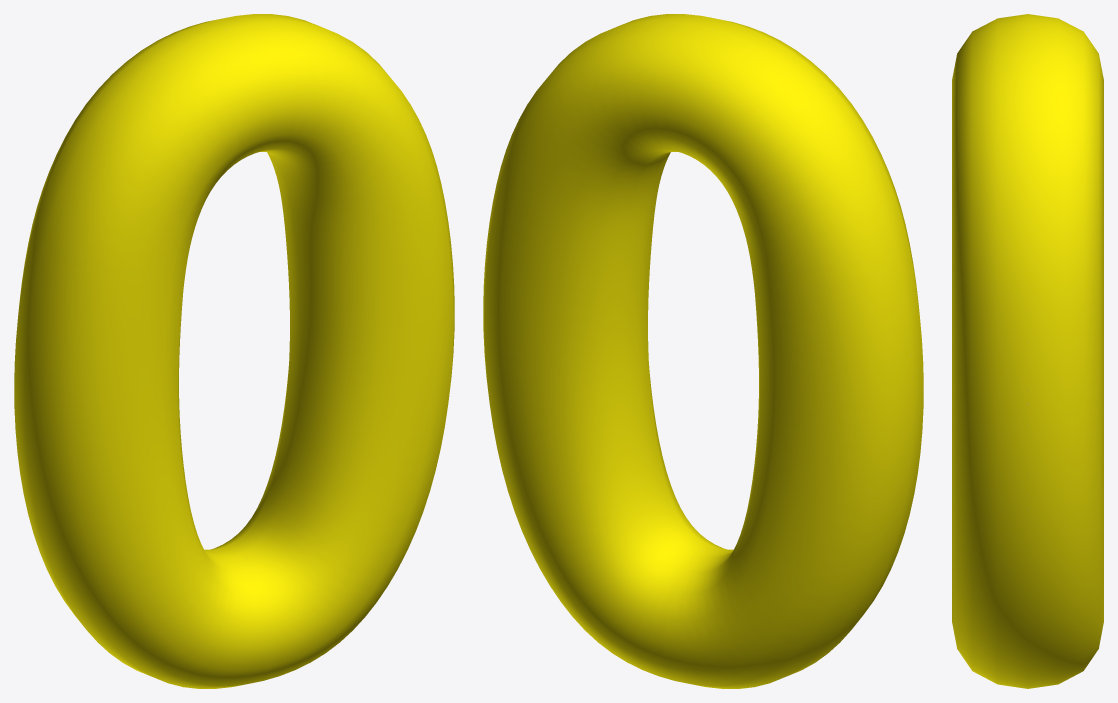
Rendered from numero-0.glb.
3 views of the same model, side by side, from view 1: azimuth 30°, elevation 25°; view 2: azimuth 150°, elevation 25°; view 3: azimuth 270°, elevation 25° (orthographic). The views are drawn at different scales.
Visible parts, largest first — view 1: node_id70; view 2: node_id70; view 3: node_id70.
Boxes of the visible parts, x1,y1,x2,y2 form: node_id70: (14,14,454,688); node_id70: (483,14,923,688); node_id70: (952,14,1103,688).
Size of the model in its own units: 0.3458 by 0.512 by 0.111.
Materials: 1 (1 with a texture image).
